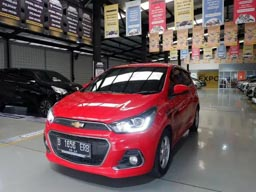plat: (57, 138, 90, 158)
